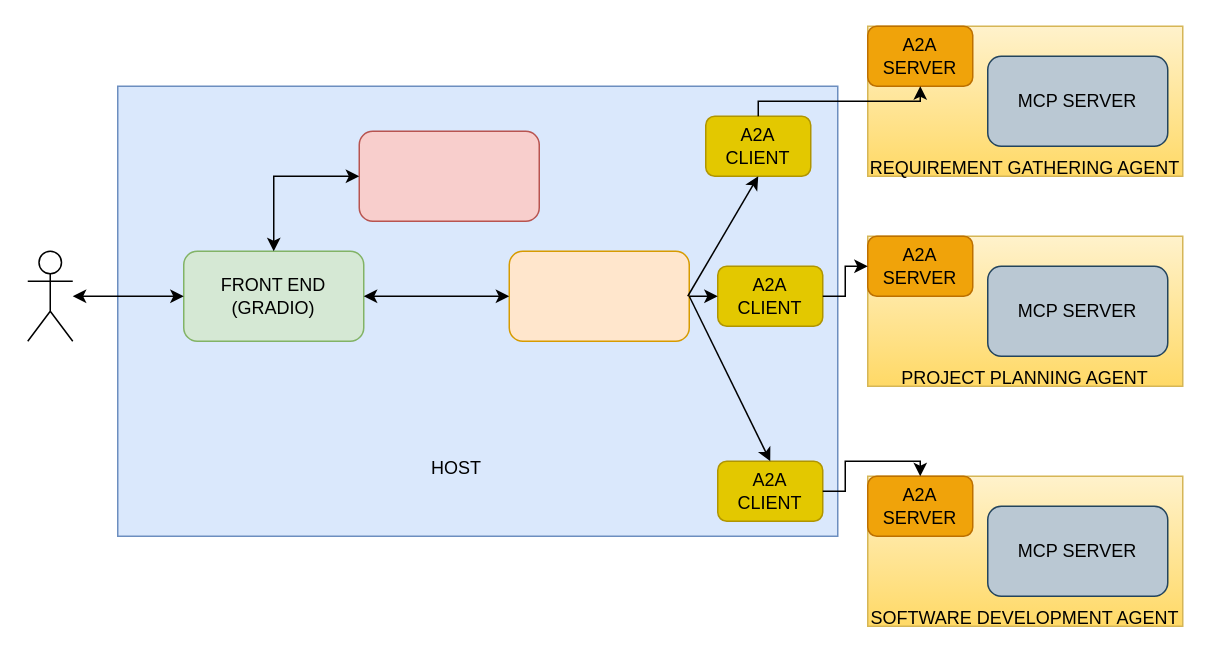
Image size: 1224x668. Some labels were removed from this diagram. Here are the shapes that lost their labels. From the top down, the centre of each, then its label:
[448,175]: POLICY ENFORCER
[49,295]: USER
[598,295]: HOST AGENT (CO-ORDINATOR)
